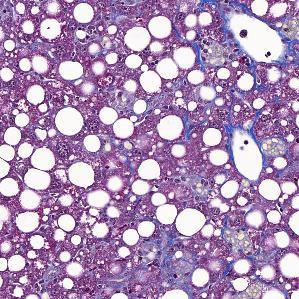fibrosis: (220, 60, 286, 108)
